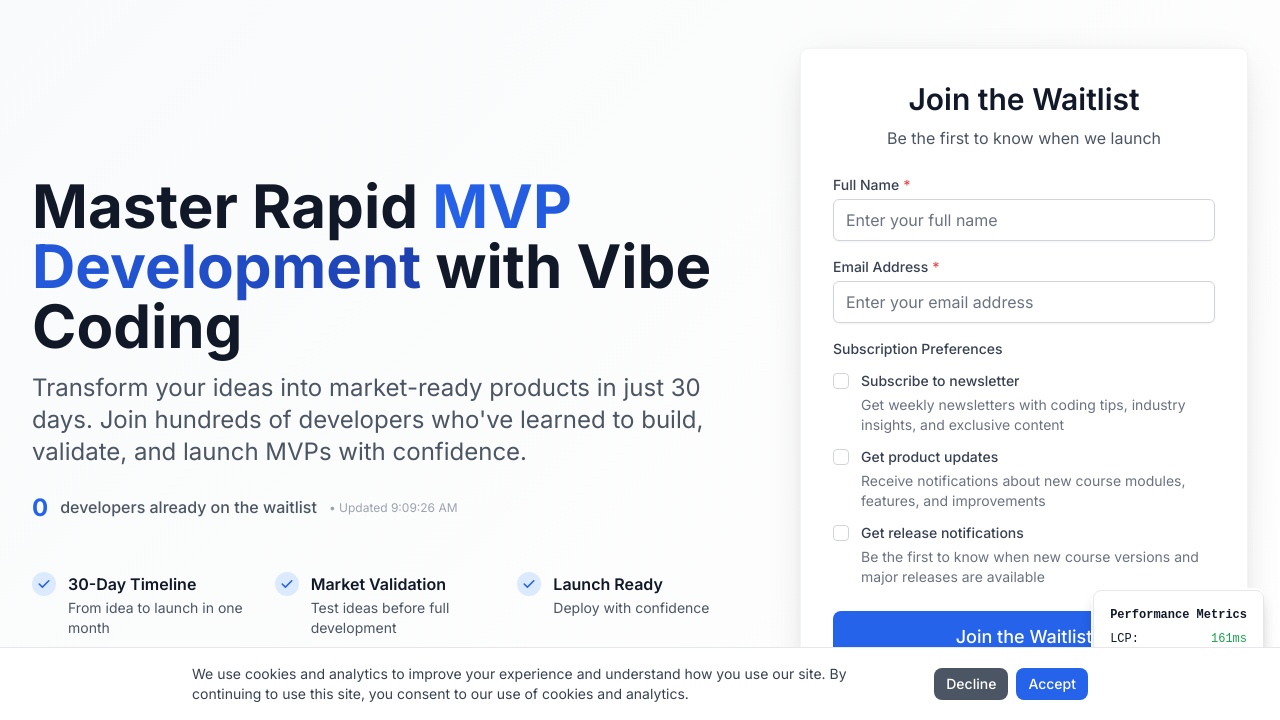
Scenario: Landing Page › handles network errors gracefully
# Fill and submit form
Type "John Doe" into the field named "name".
click(1024, 220); type("John Doe")  # box [833,199,1215,241]
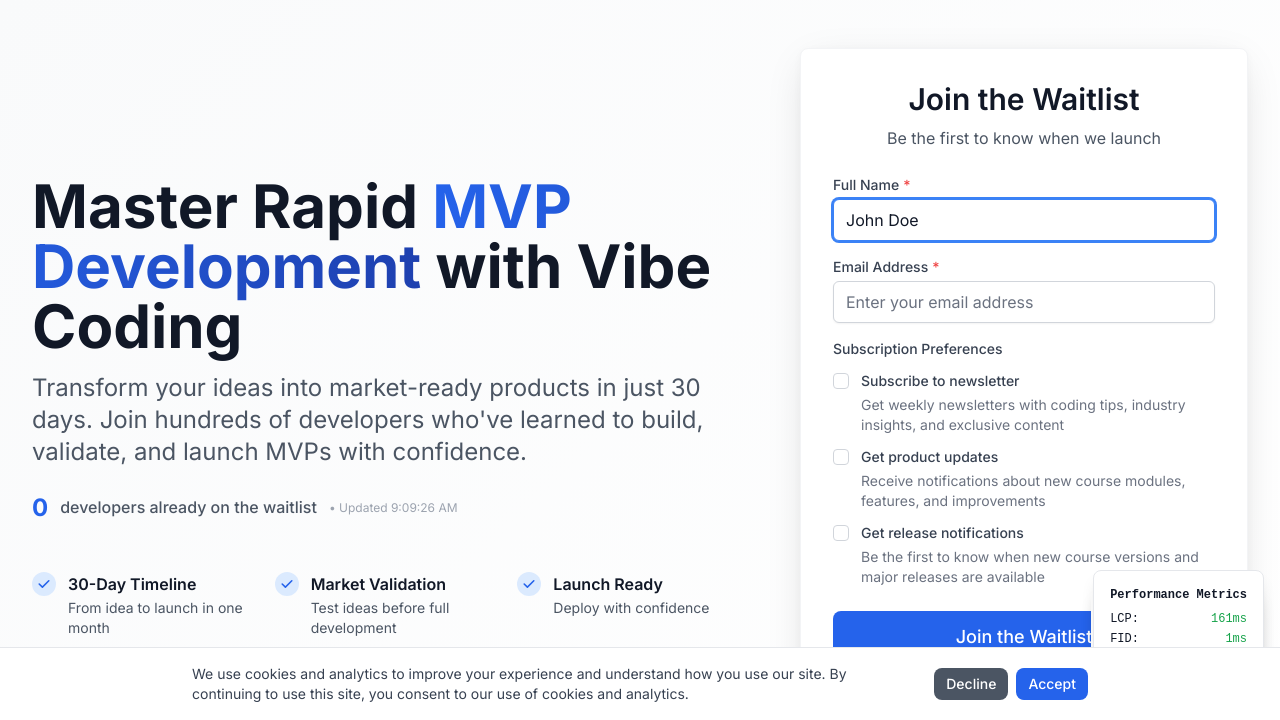
Type "john@example.com" into the field named "email".
click(1024, 302); type("john@example.com")  # box [833,281,1215,323]
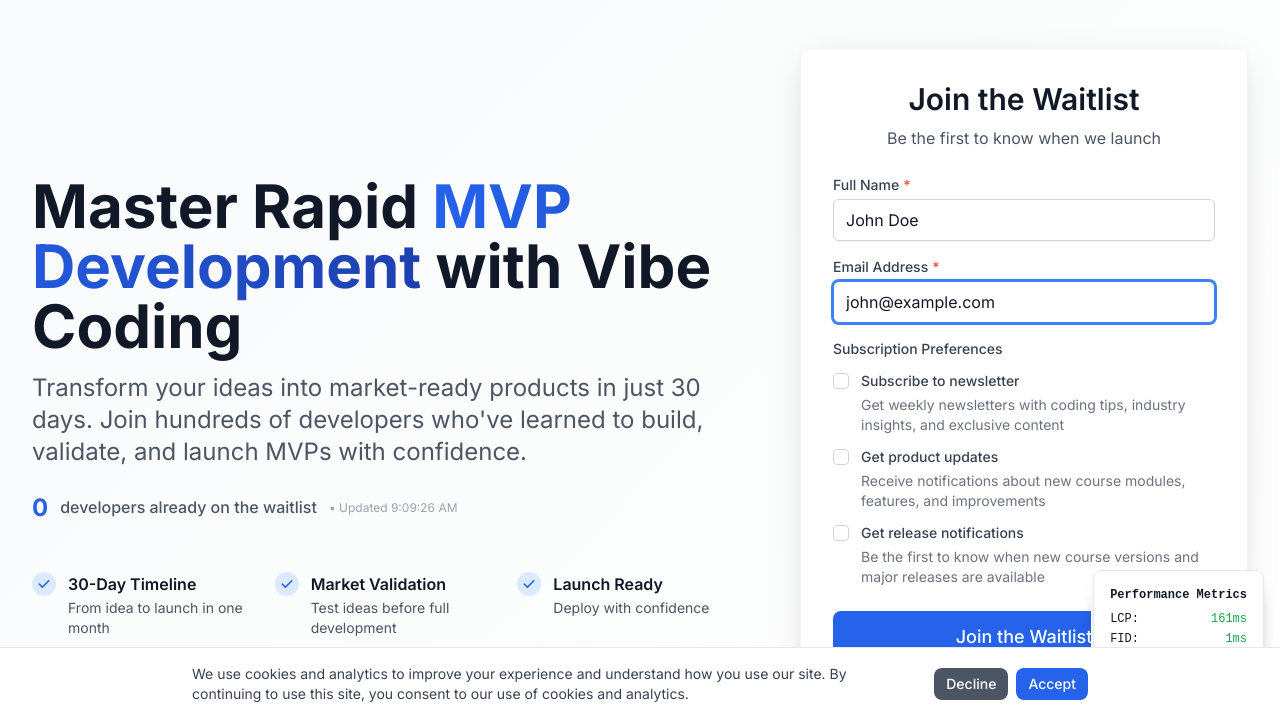
Click the submit button.
click(1024, 637)  # box [833,611,1215,663]
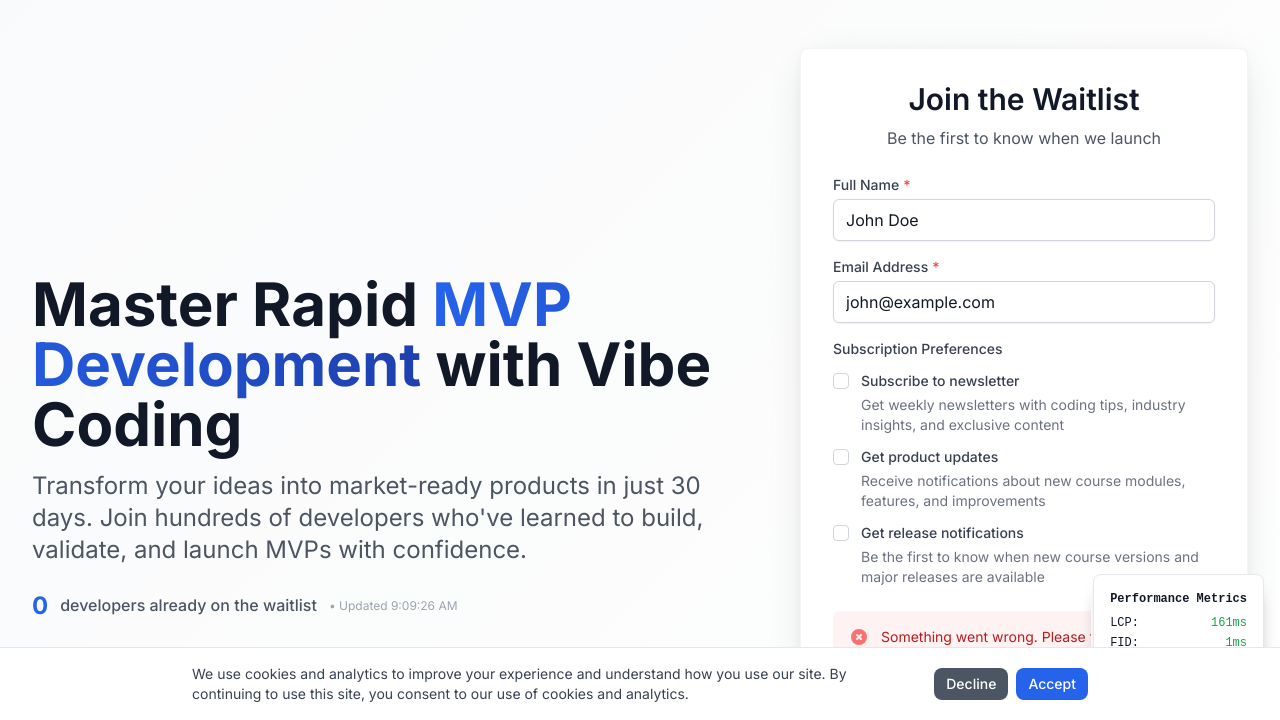
Expected: the text "Something went wrong. Please try again." is shown, [881,627,1152,647]
